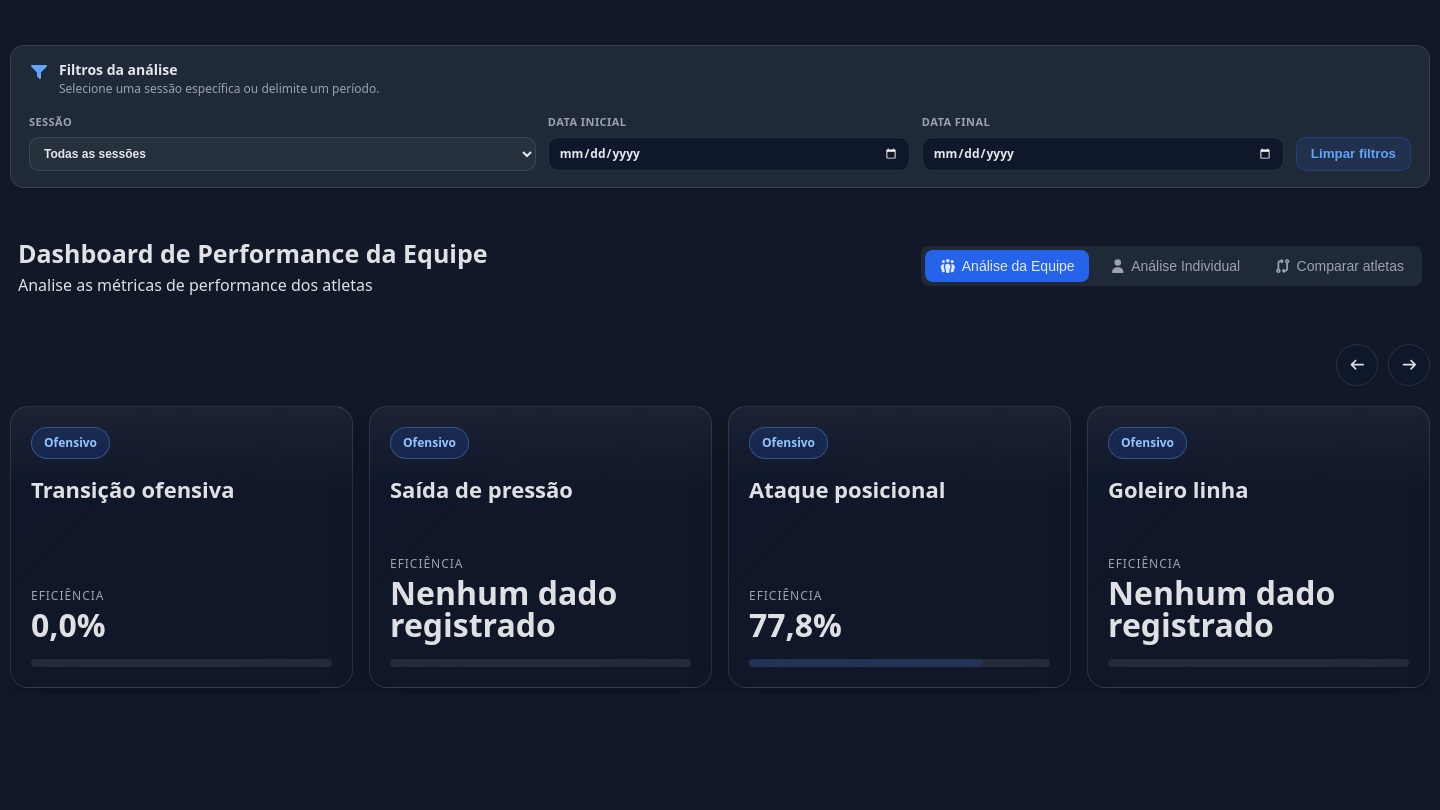
Scenario: CoachDashboard › renders an empty players state
This screenshot has width=1440, height=810.
Click the button "Análise Individual": (1174, 266) [1095,250,1254,282]
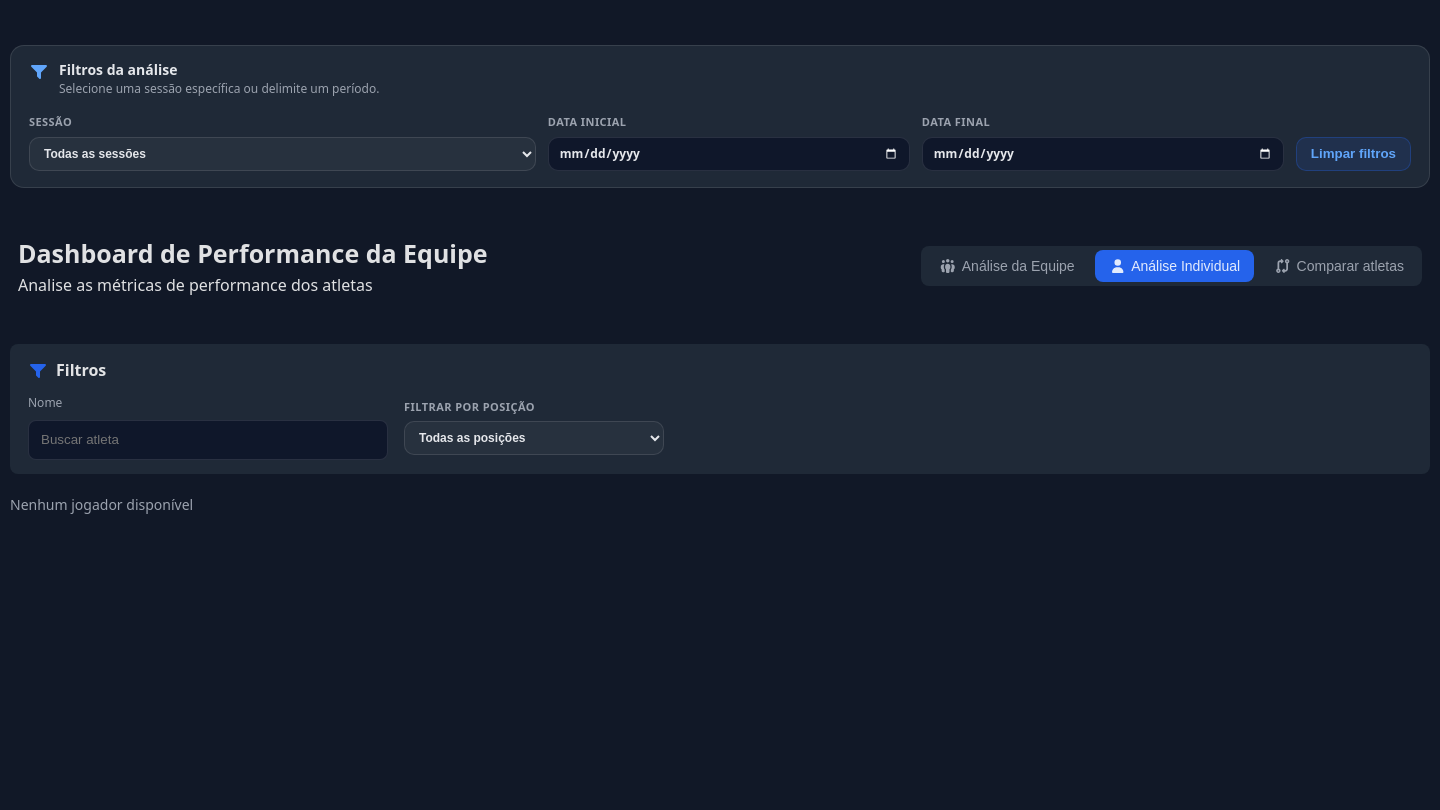
Expected: the text "Nenhum jogador disponível" is shown, [10,495,193,514]
